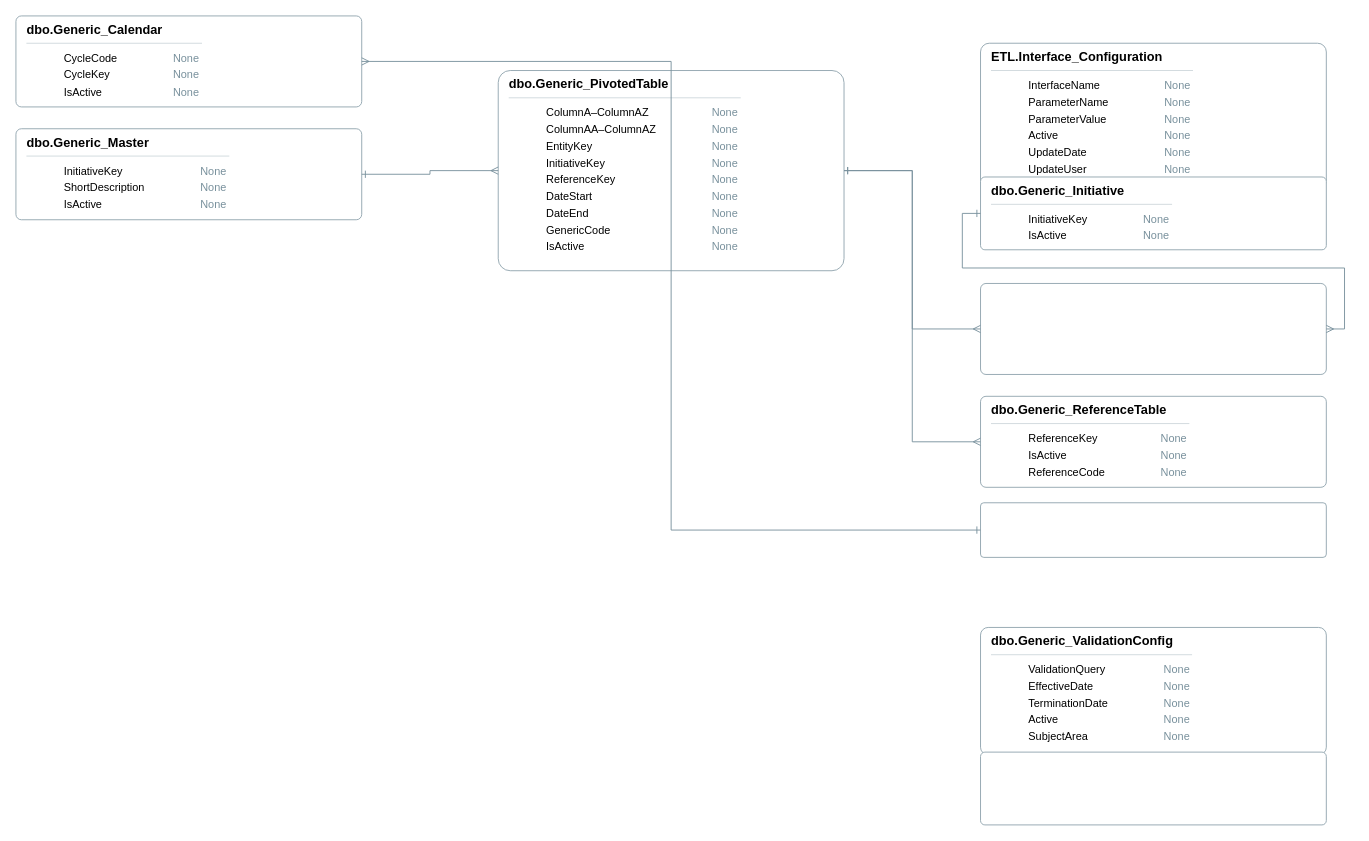
The diagram is 1369 pixels wide and 841 high, and some of its shapes have lost their labels. The centre of each missing label's shape, as x and y in pixels:
dbo.Generic_InitiativeMapping InitiativeKey None EntityKey None IsActive None: point 1153,328
dbo.Generic_StagingTable CycleKey None: point 1153,529
dbo.Generic_ValidationExceptions ValidationConfigID None ExceptionData None: point 1153,788
